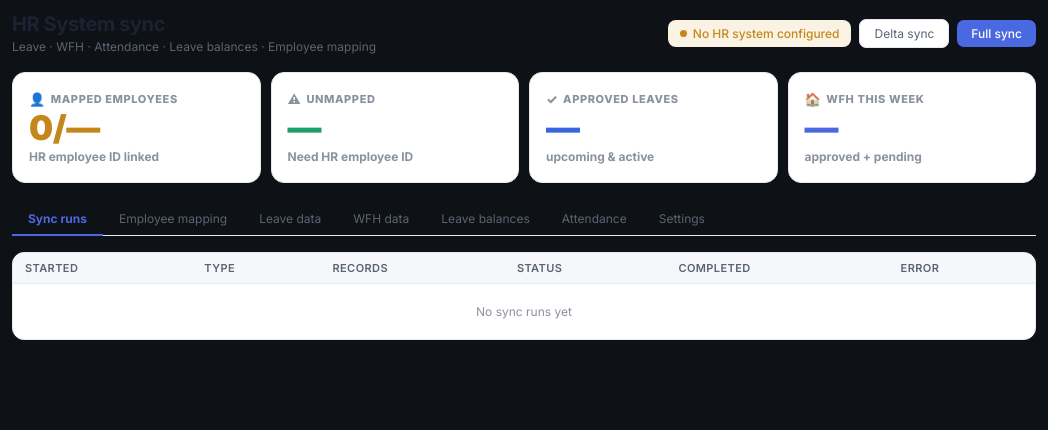
employee mapping tab › shows all employees with mapping status
This screenshot has width=1048, height=430.
Click the button "Employee mapping" at (173, 220), box [103,203,243,236]
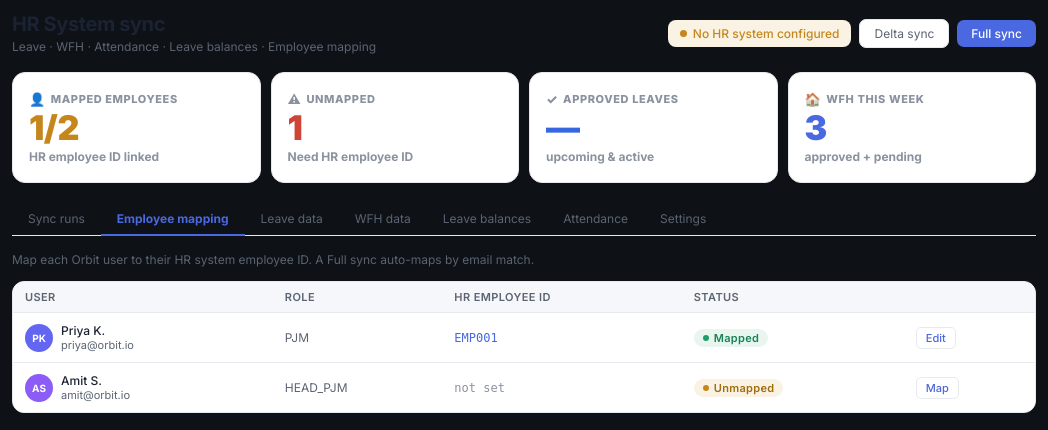
Expected: the text "Priya K." is shown, [61,323,105,338]
Expected: the text "Amit S." is shown, [61,373,102,388]
